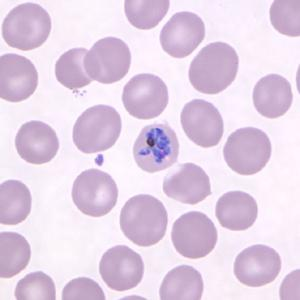Infected: (132, 123, 181, 172)
Uninfected: (188, 43, 239, 97), (121, 193, 169, 247), (2, 1, 49, 53), (223, 126, 271, 176), (172, 210, 218, 260), (73, 105, 120, 152), (123, 71, 168, 120), (161, 10, 204, 60), (73, 168, 117, 216), (181, 98, 223, 147), (163, 162, 210, 205), (87, 35, 129, 83), (234, 245, 282, 286), (14, 121, 58, 165), (100, 247, 144, 291), (1, 53, 38, 105), (252, 74, 292, 122), (215, 190, 258, 231), (55, 47, 97, 88), (159, 263, 203, 300), (0, 231, 31, 281), (0, 181, 33, 226)
